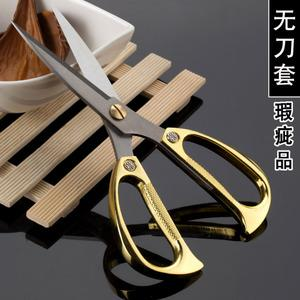scissor: (8, 6, 272, 276)
